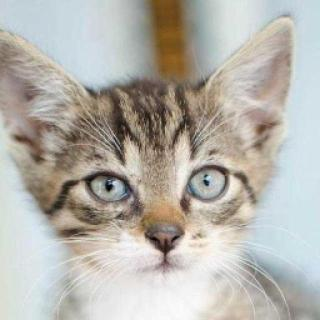cat: (1, 31, 302, 286)
nose: (140, 202, 187, 256)
